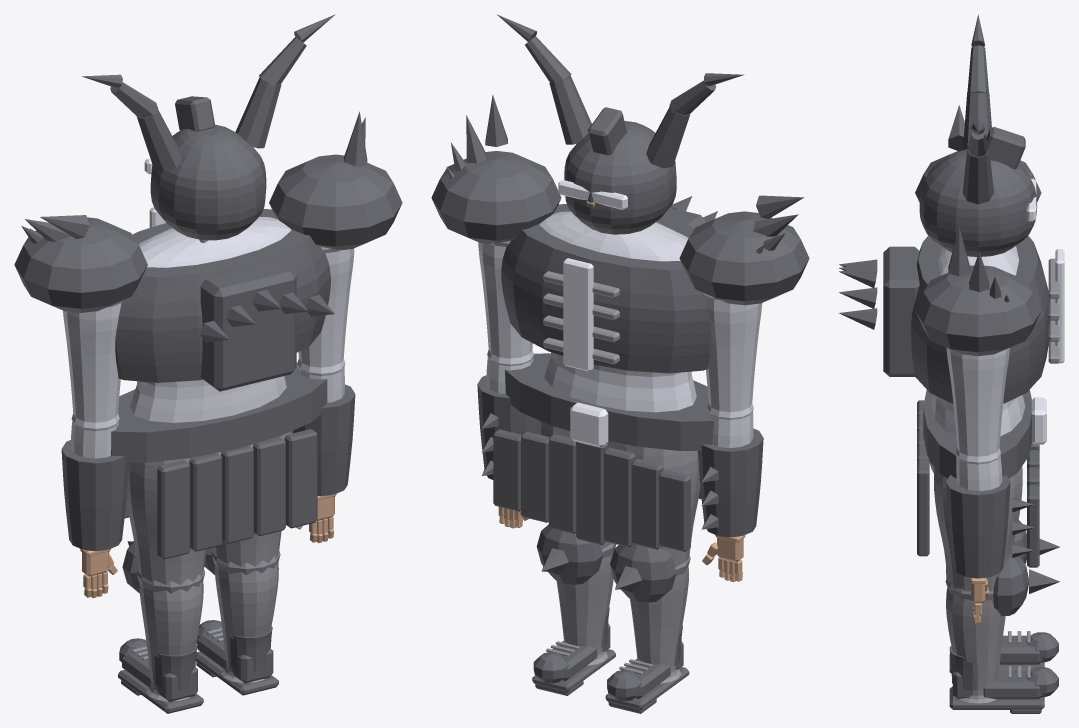
The model's file is titan.glb.
The picture shows the model from 3 angles, left to right: view 1: azimuth 30°, elevation 25°; view 2: azimuth 150°, elevation 25°; view 3: azimuth 270°, elevation 25°; orthographic projection. The views are drawn at different scales.
Parts seen in each view (by area): view 1: Plate, Skirt, Helm, Pauldron_l, Pauldron_r, Torso, Gauntlet_l, Arm_l, Shin_l, Shin_r, Thigh_l, Boot_l (+8 smaller); view 2: Skirt, Plate, Helm, Pauldron_r, Pauldron_l, Torso, Gauntlet_l, Arm_l, Shin_l, Shin_r, Greave_l, Arm_r (+8 smaller); view 3: Plate, Helm, Pauldron_r, Skirt, Gauntlet_r, Arm_r, Shin_r, Boot_r, Thigh_r, Torso, Greave_r, Boot_l (+4 smaller).
Part boxes in pixels (x1=…): Plate: x1=115, y1=207, x2=334, y2=391; Skirt: x1=111, y1=362, x2=327, y2=559; Helm: x1=81, y1=14, x2=335, y2=240; Pauldron_l: x1=14, y1=215, x2=147, y2=312; Pauldron_r: x1=269, y1=111, x2=402, y2=249; Torso: x1=130, y1=216, x2=291, y2=422; Gauntlet_l: x1=61, y1=440, x2=128, y2=550; Arm_l: x1=63, y1=300, x2=123, y2=422; Shin_l: x1=137, y1=568, x2=205, y2=701; Shin_r: x1=212, y1=550, x2=280, y2=682; Thigh_l: x1=126, y1=457, x2=206, y2=584; Boot_l: x1=118, y1=638, x2=203, y2=713; Skirt: x1=493, y1=353, x2=714, y2=551; Plate: x1=501, y1=196, x2=717, y2=373; Helm: x1=497, y1=14, x2=744, y2=234; Pauldron_r: x1=431, y1=94, x2=561, y2=243; Pauldron_l: x1=679, y1=195, x2=809, y2=305; Torso: x1=539, y1=211, x2=696, y2=412; Gauntlet_l: x1=698, y1=428, x2=763, y2=537; Arm_l: x1=703, y1=293, x2=762, y2=412; Shin_l: x1=630, y1=556, x2=690, y2=683; Shin_r: x1=556, y1=543, x2=616, y2=665; Greave_l: x1=610, y1=544, x2=676, y2=602; Arm_r: x1=478, y1=241, x2=532, y2=358; Plate: x1=838, y1=235, x2=1064, y2=403; Helm: x1=919, y1=14, x2=1036, y2=256; Pauldron_r: x1=915, y1=227, x2=1041, y2=356; Skirt: x1=917, y1=389, x2=1046, y2=567; Gauntlet_r: x1=946, y1=475, x2=1033, y2=578; Arm_r: x1=946, y1=347, x2=1009, y2=456; Shin_r: x1=945, y1=577, x2=1005, y2=703; Boot_r: x1=949, y1=646, x2=1058, y2=713; Thigh_r: x1=934, y1=466, x2=1022, y2=591; Torso: x1=931, y1=246, x2=1025, y2=436; Greave_r: x1=993, y1=552, x2=1059, y2=615; Boot_l: x1=949, y1=631, x2=1058, y2=673.
Bounding box in the file's own units: 1.28 × 2.15 × 0.7152.
